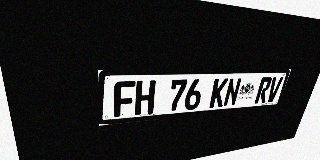6: (183, 79, 204, 110)
7: (167, 79, 188, 112)
F: (114, 81, 136, 117)
H: (135, 80, 156, 115)
K: (209, 78, 229, 108)
N: (223, 78, 242, 107)
R: (254, 77, 273, 104)
V: (265, 77, 283, 103)
